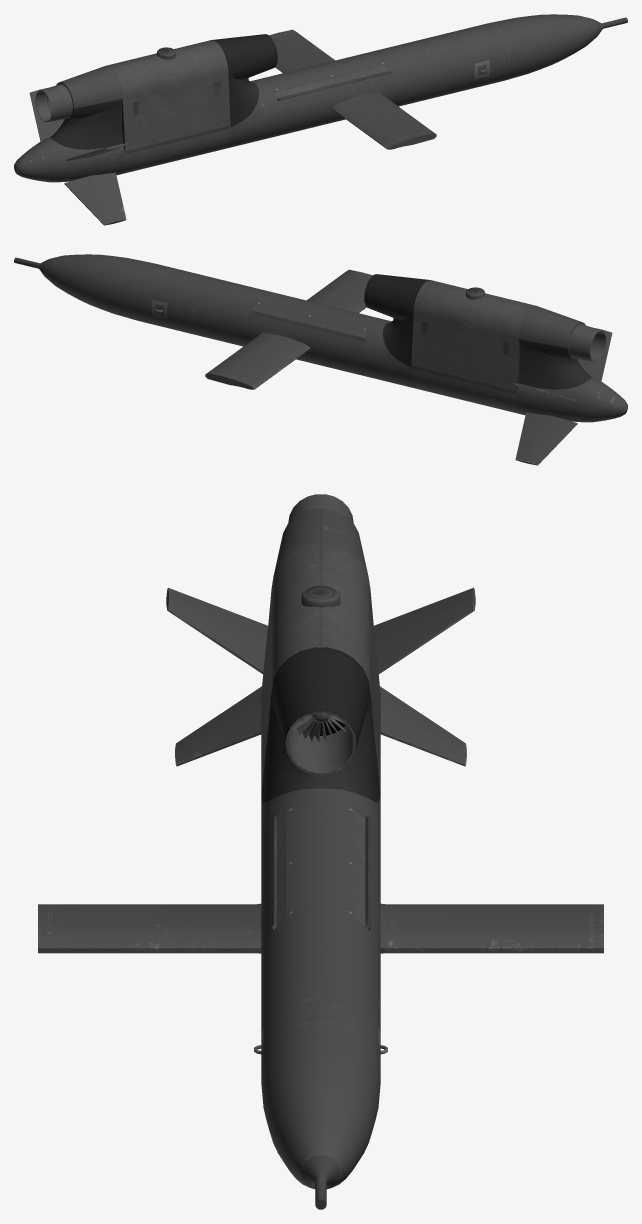
The model's file is fp-5 flamingo 3d model.fbx.
3 renders of one model, top to bottom at view 1: azimuth 30°, elevation 25°; view 2: azimuth 150°, elevation 25°; view 3: azimuth 270°, elevation 25°, orthographic. The views are drawn at different scales.
Parts seen in each view (by area): view 1: Rocket bodey type LP v-2-5.001; view 2: Rocket bodey type LP v-2-5.001; view 3: Rocket bodey type LP v-2-5.001.
Boxes of the visible parts, x1,y1,x2,y2 form: Rocket bodey type LP v-2-5.001: (14,14,627,225); Rocket bodey type LP v-2-5.001: (14,254,627,465); Rocket bodey type LP v-2-5.001: (38,494,603,1209).
Bounding box in the file's own units: 1446 × 282 × 579.
